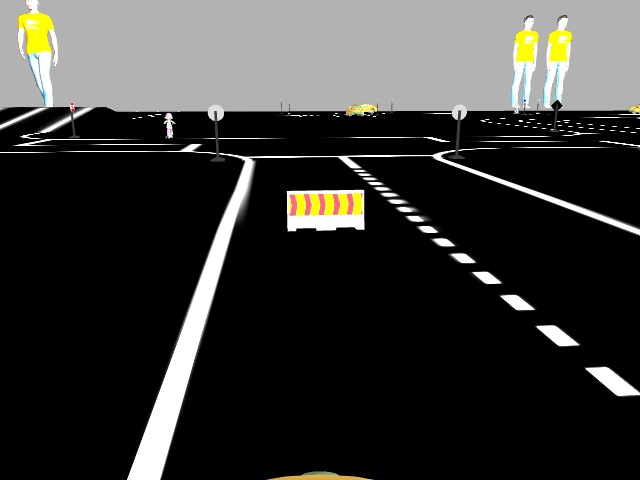ClosedRoadStand: (288, 191, 363, 231)
